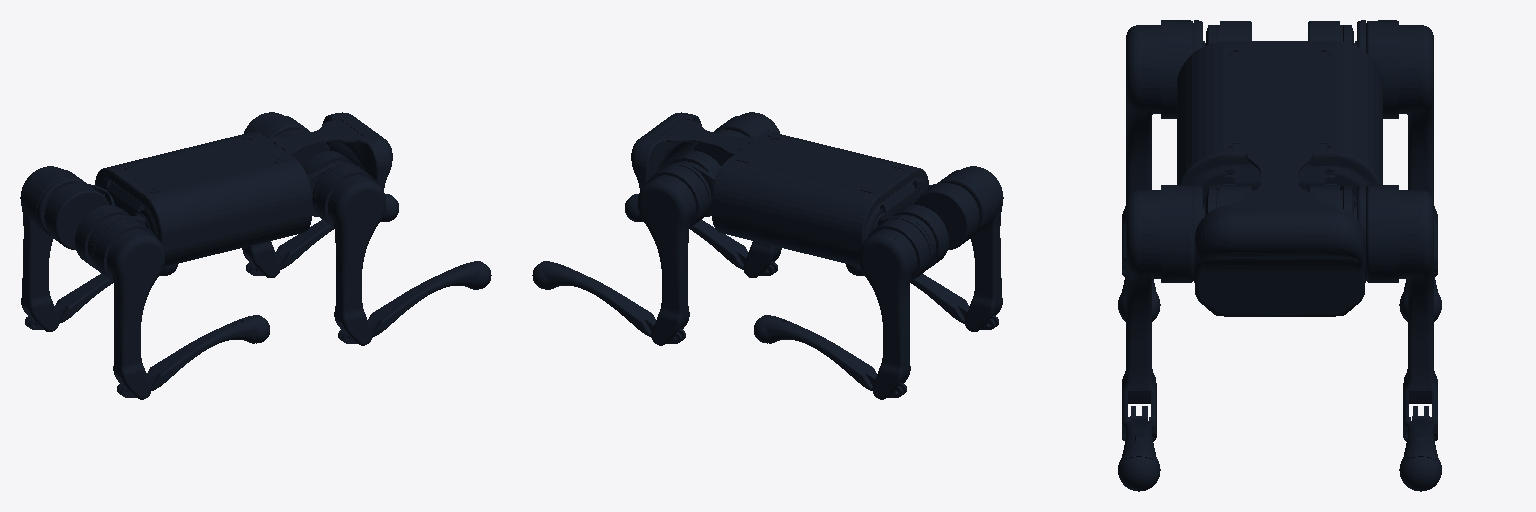
URDF robot description (a1_description):
<?xml version="1.0" ?>
<robot name="a1_description" xmlns:xacro="http://www.ros.org/wiki/xacro">
  <mujoco>
    <compiler 
      meshdir="[local-path]/issac/legged_gym/resources/robots/a1/meshes" 
      balanceinertia="true" 
      discardvisual="false" />
  </mujoco>
  <material name="black">
    <color rgba="0.0 0.0 0.0 1.0"/>
  </material>
  <material name="blue">
    <color rgba="0.0 0.0 0.8 1.0"/>
  </material>
  <material name="green">
    <color rgba="0.0 0.8 0.0 1.0"/>
  </material>
  <material name="grey">
    <color rgba="0.2 0.2 0.2 1.0"/>
  </material>
  <material name="silver">
    <color rgba="0.913725490196 0.913725490196 0.847058823529 1.0"/>
  </material>
  <material name="orange">
    <!-- <color rgba="1.0 0.423529411765 0.0392156862745 1.0"/> -->
    <color rgba="0.12 0.15 0.2 1.0"/>
  </material>
  <material name="brown">
    <color rgba="0.870588235294 0.811764705882 0.764705882353 1.0"/>
  </material>
  <material name="red">
    <color rgba="0.8 0.0 0.0 1.0"/>
  </material>
  <material name="white">
    <color rgba="1.0 1.0 1.0 1.0"/>
  </material>
  <link name="base">
    <visual>
      <origin rpy="0 0 0" xyz="0 0 0"/>
      <geometry>
        <box size="0.001 0.001 0.001"/>
      </geometry>
    </visual>
  </link>
  <joint name="floating_base" type="fixed">
    <origin rpy="0 0 0" xyz="0 0 0"/>
    <parent link="base"/>
    <child link="trunk"/>
  </joint>
  <link name="trunk">
    <visual>
      <origin rpy="0 0 0" xyz="0 0 0"/>
      <geometry>
        <mesh filename="../meshes/trunk.stl" scale="1 1 1"/>
      </geometry>
      <material name="orange"/>
    </visual>
    <collision>
      <origin rpy="0 0 0" xyz="0 0 0"/>
      <geometry>
        <box size="0.267 0.194 0.114"/>
      </geometry>
    </collision>
    <inertial>
      <origin rpy="0 0 0" xyz="0.012731 0.002186 0.000515"/>
      <mass value="4.713"/>
      <inertia ixx="0.01683993" ixy="8.3902e-05" ixz="0.000597679" iyy="0.056579028" iyz="2.5134e-05" izz="0.064713601"/>
    </inertial>
  </link>
  <joint name="imu_joint" type="fixed">
    <parent link="trunk"/>
    <child link="imu_link"/>
    <origin rpy="0 0 0" xyz="0 0 0"/>
  </joint>
  <link name="imu_link">
    <inertial>
      <mass value="0.001"/>
      <origin rpy="0 0 0" xyz="0 0 0"/>
      <inertia ixx="0.0001" ixy="0" ixz="0" iyy="0.0001" iyz="0" izz="0.0001"/>
    </inertial>
    <visual>
      <origin rpy="0 0 0" xyz="0 0 0"/>
      <geometry>
        <box size="0.001 0.001 0.001"/>
      </geometry>
      <material name="red"/>
    </visual>
    <!-- <collision>
      <origin rpy="0 0 0" xyz="0 0 0"/>
      <geometry>
        <box size=".001 .001 .001"/>
      </geometry>
    </collision> -->
  </link>
  <joint name="FR_hip_joint" type="revolute">
    <origin rpy="0 0 0" xyz="0.183 -0.047 0"/>
    <parent link="trunk"/>
    <child link="FR_hip"/>
    <axis xyz="1 0 0"/>
    <dynamics damping="0" friction="0"/>
    <limit effort="20" lower="-0.802851455917" upper="0.802851455917" velocity="52.4"/>
  </joint>
  <link name="FR_hip">
    <visual>
      <origin rpy="3.14159265359 0 0" xyz="0 0 0"/>
      <geometry>
        <mesh filename="../meshes/hip.stl" scale="1 1 1"/>
      </geometry>
      <material name="orange"/>
    </visual>
    <!-- <collision>
      <origin rpy="1.57079632679 0 0" xyz="0 0 0"/>
      <geometry>
        <cylinder length="0.04" radius="0.046"/>
      </geometry>
    </collision> -->
    <inertial>
      <origin rpy="0 0 0" xyz="-0.003311 -0.000635 3.1e-05"/>
      <mass value="0.696"/>
      <inertia ixx="0.000469246" ixy="9.409e-06" ixz="-3.42e-07" iyy="0.00080749" iyz="4.66e-07" izz="0.000552929"/>
    </inertial>
  </link>
  <joint name="FR_hip_fixed" type="fixed">
    <origin rpy="0 0 0" xyz="0 -0.081 0"/>
    <parent link="FR_hip"/>
    <child link="FR_thigh_shoulder"/>
  </joint>
  <!-- this link is only for collision -->
  <link name="FR_thigh_shoulder">
    <!-- <collision>
      <origin rpy="1.57079632679 0 0" xyz="0 0 0"/>
      <geometry>
        <cylinder length="0.032" radius="0.041"/>
      </geometry>
    </collision> -->
  </link>
  <joint name="FR_thigh_joint" type="revolute">
    <origin rpy="0 0 0" xyz="0 -0.08505 0"/>
    <parent link="FR_hip"/>
    <child link="FR_thigh"/>
    <axis xyz="0 1 0"/>
    <dynamics damping="0" friction="0"/>
    <limit effort="55" lower="-1.0471975512" upper="4.18879020479" velocity="28.6"/>
  </joint>
  <link name="FR_thigh">
    <visual>
      <origin rpy="0 0 0" xyz="0 0 0"/>
      <geometry>
        <mesh filename="../meshes/thigh_mirror.stl" scale="1 1 1"/>
      </geometry>
      <material name="orange"/>
    </visual>
    <collision>
      <origin rpy="0 1.57079632679 0" xyz="0 0 -0.1"/>
      <geometry>
        <box size="0.2 0.0245 0.034"/>
      </geometry>
    </collision>
    <inertial>
      <origin rpy="0 0 0" xyz="-0.003237 0.022327 -0.027326"/>
      <mass value="1.013"/>
      <inertia ixx="0.005529065" ixy="-4.825e-06" ixz="0.000343869" iyy="0.005139339" iyz="-2.2448e-05" izz="0.001367788"/>
    </inertial>
  </link>
  <joint name="FR_calf_joint" type="revolute">
    <origin rpy="0 0 0" xyz="0 0 -0.2"/>
    <parent link="FR_thigh"/>
    <child link="FR_calf"/>
    <axis xyz="0 1 0"/>
    <dynamics damping="0" friction="0"/>
    <limit effort="55" lower="-2.69653369433" upper="-0.916297857297" velocity="28.6"/>
  </joint>
  <link name="FR_calf">
    <visual>
      <origin rpy="0 0 0" xyz="0 0 0"/>
      <geometry>
        <mesh filename="../meshes/calf.stl" scale="1 1 1"/>
      </geometry>
      <material name="orange"/>
    </visual>
    <collision>
      <origin rpy="0 1.57079632679 0" xyz="0 0 -0.1"/>
      <geometry>
        <box size="0.2 0.016 0.016"/>
      </geometry>
    </collision>
    <inertial>
      <origin rpy="0 0 0" xyz="0.006435 0.0 -0.107388"/>
      <mass value="0.166"/>
      <inertia ixx="0.002997972" ixy="0.0" ixz="-0.000141163" iyy="0.003014022" iyz="0.0" izz="3.2426e-05"/>
    </inertial>
  </link>
  <joint name="FR_foot_fixed" type="fixed" dont_collapse="true">
    <origin rpy="0 0 0" xyz="0 0 -0.2"/>
    <parent link="FR_calf"/>
    <child link="FR_foot"/>
  </joint>
  <link name="FR_foot">
    <visual>
      <origin rpy="0 0 0" xyz="0 0 0"/>
      <geometry>
        <sphere radius="0.01"/>
      </geometry>
      <material name="orange"/>
    </visual>
    <collision>
      <origin rpy="0 0 0" xyz="0 0 0"/>
      <geometry>
        <sphere radius="0.02"/>
      </geometry>
    </collision>
    <inertial>
      <mass value="0.06"/>
      <inertia ixx="9.6e-06" ixy="0.0" ixz="0.0" iyy="9.6e-06" iyz="0.0" izz="9.6e-06"/>
    </inertial>
  </link>
  <joint name="FL_hip_joint" type="revolute">
    <origin rpy="0 0 0" xyz="0.183 0.047 0"/>
    <parent link="trunk"/>
    <child link="FL_hip"/>
    <axis xyz="1 0 0"/>
    <dynamics damping="0" friction="0"/>
    <limit effort="20" lower="-0.802851455917" upper="0.802851455917" velocity="52.4"/>
  </joint>
  <link name="FL_hip">
    <visual>
      <origin rpy="0 0 0" xyz="0 0 0"/>
      <geometry>
        <mesh filename="../meshes/hip.stl" scale="1 1 1"/>
      </geometry>
      <material name="orange"/>
    </visual>
    <!-- <collision>
      <origin rpy="1.57079632679 0 0" xyz="0 0 0"/>
      <geometry>
        <cylinder length="0.04" radius="0.046"/>
      </geometry>
    </collision> -->
    <inertial>
      <origin rpy="0 0 0" xyz="-0.003311 0.000635 3.1e-05"/>
      <mass value="0.696"/>
      <inertia ixx="0.000469246" ixy="-9.409e-06" ixz="-3.42e-07" iyy="0.00080749" iyz="-4.66e-07" izz="0.000552929"/>
    </inertial>
  </link>
  <joint name="FL_hip_fixed" type="fixed">
    <origin rpy="0 0 0" xyz="0 0.081 0"/>
    <parent link="FL_hip"/>
    <child link="FL_thigh_shoulder"/>
  </joint>
  <!-- this link is only for collision -->
  <link name="FL_thigh_shoulder">
    <!-- <collision>
      <origin rpy="1.57079632679 0 0" xyz="0 0 0"/>
      <geometry>
        <cylinder length="0.032" radius="0.041"/>
      </geometry>
    </collision> -->
  </link>
  <joint name="FL_thigh_joint" type="revolute">
    <origin rpy="0 0 0" xyz="0 0.08505 0"/>
    <parent link="FL_hip"/>
    <child link="FL_thigh"/>
    <axis xyz="0 1 0"/>
    <dynamics damping="0" friction="0"/>
    <limit effort="55" lower="-1.0471975512" upper="4.18879020479" velocity="28.6"/>
  </joint>
  <link name="FL_thigh">
    <visual>
      <origin rpy="0 0 0" xyz="0 0 0"/>
      <geometry>
        <mesh filename="../meshes/thigh.stl" scale="1 1 1"/>
      </geometry>
      <material name="orange"/>
    </visual>
    <collision>
      <origin rpy="0 1.57079632679 0" xyz="0 0 -0.1"/>
      <geometry>
        <box size="0.2 0.0245 0.034"/>
      </geometry>
    </collision>
    <inertial>
      <origin rpy="0 0 0" xyz="-0.003237 -0.022327 -0.027326"/>
      <mass value="1.013"/>
      <inertia ixx="0.005529065" ixy="4.825e-06" ixz="0.000343869" iyy="0.005139339" iyz="2.2448e-05" izz="0.001367788"/>
    </inertial>
  </link>
  <joint name="FL_calf_joint" type="revolute">
    <origin rpy="0 0 0" xyz="0 0 -0.2"/>
    <parent link="FL_thigh"/>
    <child link="FL_calf"/>
    <axis xyz="0 1 0"/>
    <dynamics damping="0" friction="0"/>
    <limit effort="55" lower="-2.69653369433" upper="-0.916297857297" velocity="28.6"/>
  </joint>
  <link name="FL_calf">
    <visual>
      <origin rpy="0 0 0" xyz="0 0 0"/>
      <geometry>
        <mesh filename="../meshes/calf.stl" scale="1 1 1"/>
      </geometry>
      <material name="orange"/>
    </visual>
    <collision>
      <origin rpy="0 1.57079632679 0" xyz="0 0 -0.1"/>
      <geometry>
        <box size="0.2 0.016 0.016"/>
      </geometry>
    </collision>
    <inertial>
      <origin rpy="0 0 0" xyz="0.006435 0.0 -0.107388"/>
      <mass value="0.166"/>
      <inertia ixx="0.002997972" ixy="0.0" ixz="-0.000141163" iyy="0.003014022" iyz="0.0" izz="3.2426e-05"/>
    </inertial>
  </link>
  <joint name="FL_foot_fixed" type="fixed" dont_collapse="true">
    <origin rpy="0 0 0" xyz="0 0 -0.2"/>
    <parent link="FL_calf"/>
    <child link="FL_foot"/>
  </joint>
  <link name="FL_foot">
    <visual>
      <origin rpy="0 0 0" xyz="0 0 0"/>
      <geometry>
        <sphere radius="0.01"/>
      </geometry>
      <material name="orange"/>
    </visual>
    <collision>
      <origin rpy="0 0 0" xyz="0 0 0"/>
      <geometry>
        <sphere radius="0.02"/>
      </geometry>
    </collision>
    <inertial>
      <mass value="0.06"/>
      <inertia ixx="9.6e-06" ixy="0.0" ixz="0.0" iyy="9.6e-06" iyz="0.0" izz="9.6e-06"/>
    </inertial>
  </link>
  <joint name="RR_hip_joint" type="revolute">
    <origin rpy="0 0 0" xyz="-0.183 -0.047 0"/>
    <parent link="trunk"/>
    <child link="RR_hip"/>
    <axis xyz="1 0 0"/>
    <dynamics damping="0" friction="0"/>
    <limit effort="20" lower="-0.802851455917" upper="0.802851455917" velocity="52.4"/>
  </joint>
  <link name="RR_hip">
    <visual>
      <origin rpy="3.14159265359 3.14159265359 0" xyz="0 0 0"/>
      <geometry>
        <mesh filename="../meshes/hip.stl" scale="1 1 1"/>
      </geometry>
      <material name="orange"/>
    </visual>
    <!-- <collision>
      <origin rpy="1.57079632679 0 0" xyz="0 0 0"/>
      <geometry>
        <cylinder length="0.04" radius="0.046"/>
      </geometry>
    </collision> -->
    <inertial>
      <origin rpy="0 0 0" xyz="0.003311 -0.000635 3.1e-05"/>
      <mass value="0.696"/>
      <inertia ixx="0.000469246" ixy="-9.409e-06" ixz="3.42e-07" iyy="0.00080749" iyz="4.66e-07" izz="0.000552929"/>
    </inertial>
  </link>
  <joint name="RR_hip_fixed" type="fixed">
    <origin rpy="0 0 0" xyz="0 -0.081 0"/>
    <parent link="RR_hip"/>
    <child link="RR_thigh_shoulder"/>
  </joint>
  <!-- this link is only for collision -->
  <link name="RR_thigh_shoulder">
    <!-- <collision>
      <origin rpy="1.57079632679 0 0" xyz="0 0 0"/>
      <geometry>
        <cylinder length="0.032" radius="0.041"/>
      </geometry>
    </collision> -->
  </link>
  <joint name="RR_thigh_joint" type="revolute">
    <origin rpy="0 0 0" xyz="0 -0.08505 0"/>
    <parent link="RR_hip"/>
    <child link="RR_thigh"/>
    <axis xyz="0 1 0"/>
    <dynamics damping="0" friction="0"/>
    <limit effort="55" lower="-1.0471975512" upper="4.18879020479" velocity="28.6"/>
  </joint>
  <link name="RR_thigh">
    <visual>
      <origin rpy="0 0 0" xyz="0 0 0"/>
      <geometry>
        <mesh filename="../meshes/thigh_mirror.stl" scale="1 1 1"/>
      </geometry>
      <material name="orange"/>
    </visual>
    <collision>
      <origin rpy="0 1.57079632679 0" xyz="0 0 -0.1"/>
      <geometry>
        <box size="0.2 0.0245 0.034"/>
      </geometry>
    </collision>
    <inertial>
      <origin rpy="0 0 0" xyz="-0.003237 0.022327 -0.027326"/>
      <mass value="1.013"/>
      <inertia ixx="0.005529065" ixy="-4.825e-06" ixz="0.000343869" iyy="0.005139339" iyz="-2.2448e-05" izz="0.001367788"/>
    </inertial>
  </link>
  <joint name="RR_calf_joint" type="revolute">
    <origin rpy="0 0 0" xyz="0 0 -0.2"/>
    <parent link="RR_thigh"/>
    <child link="RR_calf"/>
    <axis xyz="0 1 0"/>
    <dynamics damping="0" friction="0"/>
    <limit effort="55" lower="-2.69653369433" upper="-0.916297857297" velocity="28.6"/>
  </joint>
  <link name="RR_calf">
    <visual>
      <origin rpy="0 0 0" xyz="0 0 0"/>
      <geometry>
        <mesh filename="../meshes/calf.stl" scale="1 1 1"/>
      </geometry>
      <material name="orange"/>
    </visual>
    <collision>
      <origin rpy="0 1.57079632679 0" xyz="0 0 -0.1"/>
      <geometry>
        <box size="0.2 0.016 0.016"/>
      </geometry>
    </collision>
    <inertial>
      <origin rpy="0 0 0" xyz="0.006435 0.0 -0.107388"/>
      <mass value="0.166"/>
      <inertia ixx="0.002997972" ixy="0.0" ixz="-0.000141163" iyy="0.003014022" iyz="0.0" izz="3.2426e-05"/>
    </inertial>
  </link>
  <joint name="RR_foot_fixed" type="fixed" dont_collapse="true">
    <origin rpy="0 0 0" xyz="0 0 -0.2"/>
    <parent link="RR_calf"/>
    <child link="RR_foot"/>
  </joint>
  <link name="RR_foot">
    <visual>
      <origin rpy="0 0 0" xyz="0 0 0"/>
      <geometry>
        <sphere radius="0.01"/>
      </geometry>
      <material name="orange"/>
    </visual>
    <collision>
      <origin rpy="0 0 0" xyz="0 0 0"/>
      <geometry>
        <sphere radius="0.02"/>
      </geometry>
    </collision>
    <inertial>
      <mass value="0.06"/>
      <inertia ixx="9.6e-06" ixy="0.0" ixz="0.0" iyy="9.6e-06" iyz="0.0" izz="9.6e-06"/>
    </inertial>
  </link>
  <joint name="RL_hip_joint" type="revolute">
    <origin rpy="0 0 0" xyz="-0.183 0.047 0"/>
    <parent link="trunk"/>
    <child link="RL_hip"/>
    <axis xyz="1 0 0"/>
    <dynamics damping="0" friction="0"/>
    <limit effort="20" lower="-0.802851455917" upper="0.802851455917" velocity="52.4"/>
  </joint>
  <link name="RL_hip">
    <visual>
      <origin rpy="0 3.14159265359 0" xyz="0 0 0"/>
      <geometry>
        <mesh filename="../meshes/hip.stl" scale="1 1 1"/>
      </geometry>
      <material name="orange"/>
    </visual>
    <!-- <collision>
      <origin rpy="1.57079632679 0 0" xyz="0 0 0"/>
      <geometry>
        <cylinder length="0.04" radius="0.046"/>
      </geometry>
    </collision> -->
    <inertial>
      <origin rpy="0 0 0" xyz="0.003311 0.000635 3.1e-05"/>
      <mass value="0.696"/>
      <inertia ixx="0.000469246" ixy="9.409e-06" ixz="3.42e-07" iyy="0.00080749" iyz="-4.66e-07" izz="0.000552929"/>
    </inertial>
  </link>
  <joint name="RL_hip_fixed" type="fixed">
    <origin rpy="0 0 0" xyz="0 0.081 0"/>
    <parent link="RL_hip"/>
    <child link="RL_thigh_shoulder"/>
  </joint>
  <!-- this link is only for collision -->
  <link name="RL_thigh_shoulder">
    <!-- <collision>
      <origin rpy="1.57079632679 0 0" xyz="0 0 0"/>
      <geometry>
        <cylinder length="0.032" radius="0.041"/>
      </geometry>
    </collision> -->
  </link>
  <joint name="RL_thigh_joint" type="revolute">
    <origin rpy="0 0 0" xyz="0 0.08505 0"/>
    <parent link="RL_hip"/>
    <child link="RL_thigh"/>
    <axis xyz="0 1 0"/>
    <dynamics damping="0" friction="0"/>
    <limit effort="55" lower="-1.0471975512" upper="4.18879020479" velocity="28.6"/>
  </joint>
  <link name="RL_thigh">
    <visual>
      <origin rpy="0 0 0" xyz="0 0 0"/>
      <geometry>
        <mesh filename="../meshes/thigh.stl" scale="1 1 1"/>
      </geometry>
      <material name="orange"/>
    </visual>
    <collision>
      <origin rpy="0 1.57079632679 0" xyz="0 0 -0.1"/>
      <geometry>
        <box size="0.2 0.0245 0.034"/>
      </geometry>
    </collision>
    <inertial>
      <origin rpy="0 0 0" xyz="-0.003237 -0.022327 -0.027326"/>
      <mass value="1.013"/>
      <inertia ixx="0.005529065" ixy="4.825e-06" ixz="0.000343869" iyy="0.005139339" iyz="2.2448e-05" izz="0.001367788"/>
    </inertial>
  </link>
  <joint name="RL_calf_joint" type="revolute">
    <origin rpy="0 0 0" xyz="0 0 -0.2"/>
    <parent link="RL_thigh"/>
    <child link="RL_calf"/>
    <axis xyz="0 1 0"/>
    <dynamics damping="0" friction="0"/>
    <limit effort="55" lower="-2.69653369433" upper="-0.916297857297" velocity="28.6"/>
  </joint>
  <link name="RL_calf">
    <visual>
      <origin rpy="0 0 0" xyz="0 0 0"/>
      <geometry>
        <mesh filename="../meshes/calf.stl" scale="1 1 1"/>
      </geometry>
      <material name="orange"/>
    </visual>
    <collision>
      <origin rpy="0 1.57079632679 0" xyz="0 0 -0.1"/>
      <geometry>
        <box size="0.2 0.016 0.016"/>
      </geometry>
    </collision>
    <inertial>
      <origin rpy="0 0 0" xyz="0.006435 0.0 -0.107388"/>
      <mass value="0.166"/>
      <inertia ixx="0.002997972" ixy="0.0" ixz="-0.000141163" iyy="0.003014022" iyz="0.0" izz="3.2426e-05"/>
    </inertial>
  </link>
  <joint name="RL_foot_fixed" type="fixed" dont_collapse="true">
    <origin rpy="0 0 0" xyz="0 0 -0.2"/>
    <parent link="RL_calf"/>
    <child link="RL_foot"/>
  </joint>
  <link name="RL_foot">
    <visual>
      <origin rpy="0 0 0" xyz="0 0 0"/>
      <geometry>
        <sphere radius="0.01"/>
      </geometry>
      <material name="orange"/>
    </visual>
    <collision>
      <origin rpy="0 0 0" xyz="0 0 0"/>
      <geometry>
        <sphere radius="0.02"/>
      </geometry>
    </collision>
    <inertial>
      <mass value="0.06"/>
      <inertia ixx="9.6e-06" ixy="0.0" ixz="0.0" iyy="9.6e-06" iyz="0.0" izz="9.6e-06"/>
    </inertial>
  </link>
</robot>

--- Render facts (derived) ---
Views: 3 orthographic renders of the robot side by side, from view 1: azimuth 30°, elevation 25°; view 2: azimuth 150°, elevation 25°; view 3: azimuth 270°, elevation 25°.
Robot: a1_description — 23 links, 22 joints (12 revolute, 10 fixed); root link base; default pose: joints at zero except 4 at the middle of their limits (FR_calf_joint = -1.81, FL_calf_joint = -1.81, RR_calf_joint = -1.81, RL_calf_joint = -1.81).
Visible links, largest first — view 1: trunk, RR_thigh, FR_thigh, RL_thigh, FR_calf, RR_calf, RL_hip, FL_thigh, FL_calf, RL_calf, RR_hip, FR_hip; view 2: trunk, RL_thigh, FL_thigh, RR_thigh, FL_calf, RL_calf, RR_hip, FR_thigh, FR_calf, RR_calf, RL_hip, FL_hip; view 3: trunk, FR_thigh, FL_thigh, RR_thigh, RL_thigh, FR_calf, FL_calf, RR_hip, RL_hip, FL_hip, FR_hip, RL_calf (+1 smaller).
Link boxes in pixels (<box>): trunk: <box>95,112,392,266</box>; RR_thigh: <box>91,217,164,399</box>; FR_thigh: <box>312,163,385,345</box>; RL_thigh: <box>20,166,86,331</box>; FR_calf: <box>338,261,491,343</box>; RR_calf: <box>117,315,269,397</box>; RL_hip: <box>44,183,114,249</box>; FL_thigh: <box>242,112,308,277</box>; FL_calf: <box>246,194,398,275</box>; RL_calf: <box>25,264,177,329</box>; RR_hip: <box>75,205,145,269</box>; FR_hip: <box>303,151,353,216</box>; trunk: <box>631,112,928,266</box>; RL_thigh: <box>859,217,932,399</box>; FL_thigh: <box>638,163,711,345</box>; RR_thigh: <box>937,166,1003,331</box>; FL_calf: <box>532,261,685,343</box>; RL_calf: <box>754,315,906,397</box>; RR_hip: <box>909,183,979,249</box>; FR_thigh: <box>715,112,781,277</box>; FR_calf: <box>625,194,777,275</box>; RR_calf: <box>846,264,998,329</box>; RL_hip: <box>878,205,948,269</box>; FL_hip: <box>670,151,720,216</box>; trunk: <box>1177,41,1382,316</box>; FR_thigh: <box>1122,185,1204,441</box>; FL_thigh: <box>1355,185,1437,441</box>; RR_thigh: <box>1122,20,1204,276</box>; RL_thigh: <box>1355,20,1437,276</box>; FR_calf: <box>1118,406,1160,491</box>; FL_calf: <box>1399,406,1441,491</box>; RR_hip: <box>1205,21,1251,45</box>; RL_hip: <box>1308,21,1354,45</box>; FL_hip: <box>1308,185,1354,215</box>; FR_hip: <box>1205,185,1251,215</box>; RL_calf: <box>1399,256,1441,321</box>.
Size in the robot's own frame: 0.6265 by 0.3041 by 0.272 metres.
13 mesh visuals loaded from 5 distinct referenced files (5 binary STL).